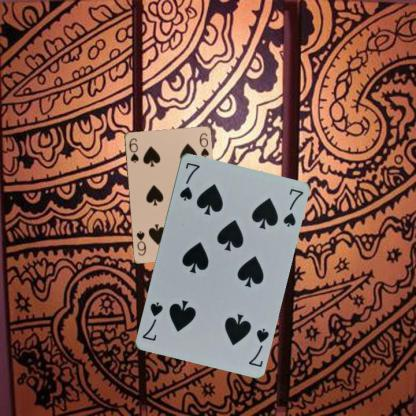6s: (126, 135, 140, 164)
7s: (246, 325, 270, 368), (177, 160, 201, 202)
